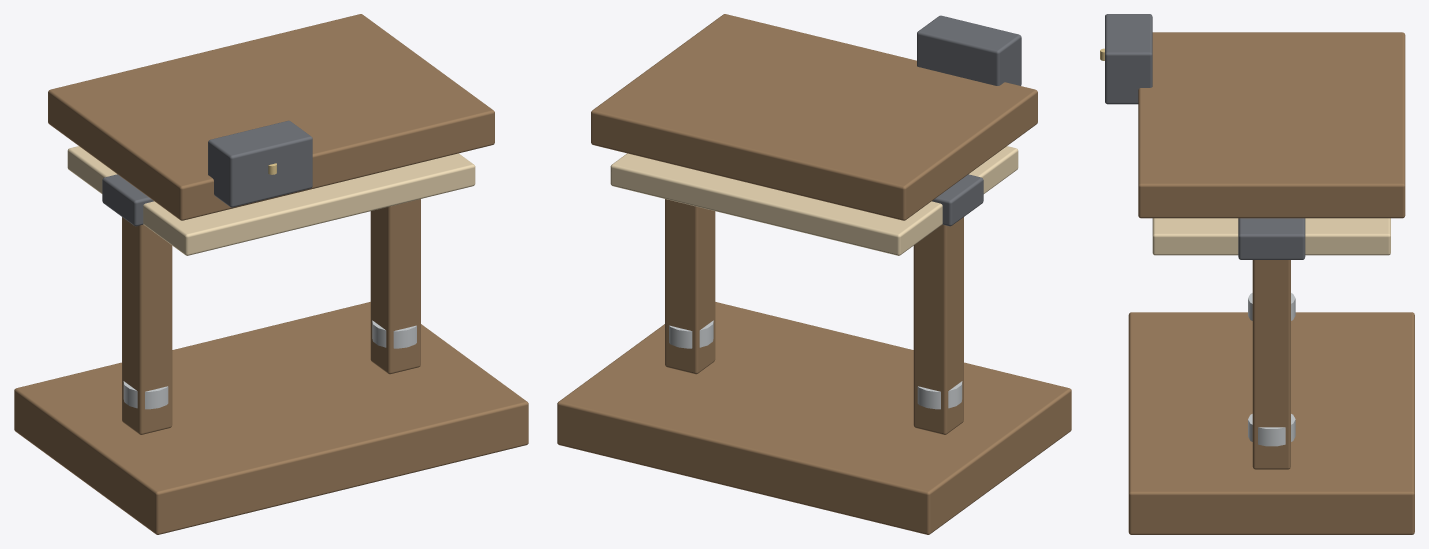
Rendered from marquetry-and-veneer-inlay-workshop-twin-screw-platen--f5d8b921__39119.glb.
The picture shows the model from 3 angles, left to right: view 1: azimuth 30°, elevation 25°; view 2: azimuth 150°, elevation 25°; view 3: azimuth 270°, elevation 25°; orthographic projection.
Visible parts, largest first — view 1: twin-screw-platen-press; view 2: twin-screw-platen-press; view 3: twin-screw-platen-press.
Boxes of the visible parts, <box> form: twin-screw-platen-press: <box>14,14,528,534</box>; twin-screw-platen-press: <box>557,14,1071,534</box>; twin-screw-platen-press: <box>1100,14,1414,534</box>.
Bounding box in the file's own units: 0.9 × 0.86 × 0.66.
